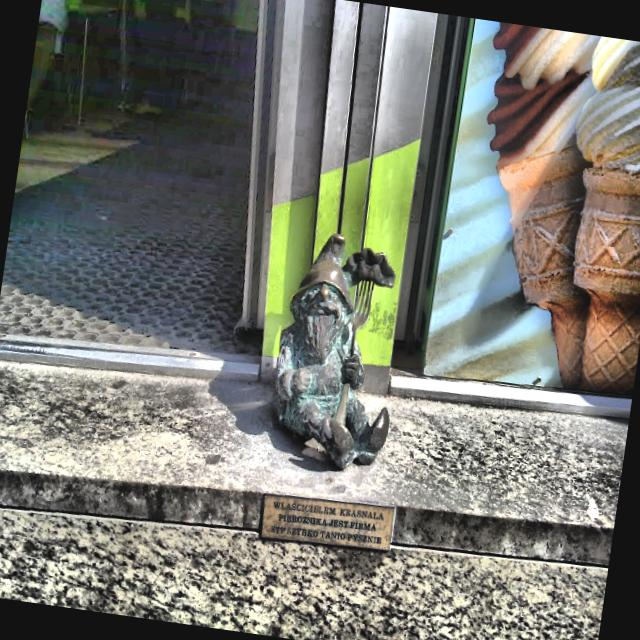Pieroznik: (273, 234, 396, 472)
